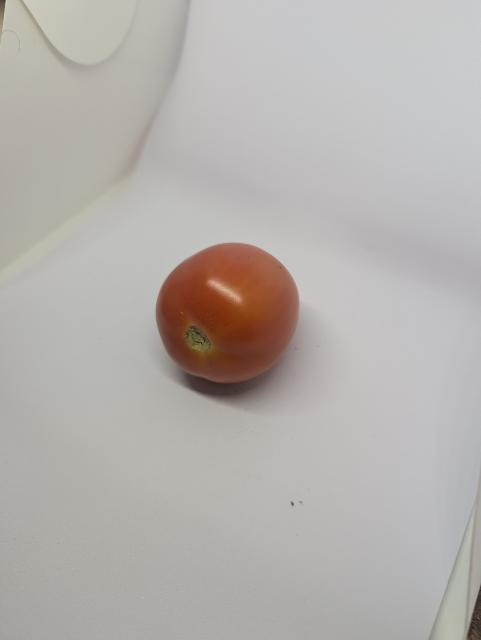red: (148, 235, 305, 406)
